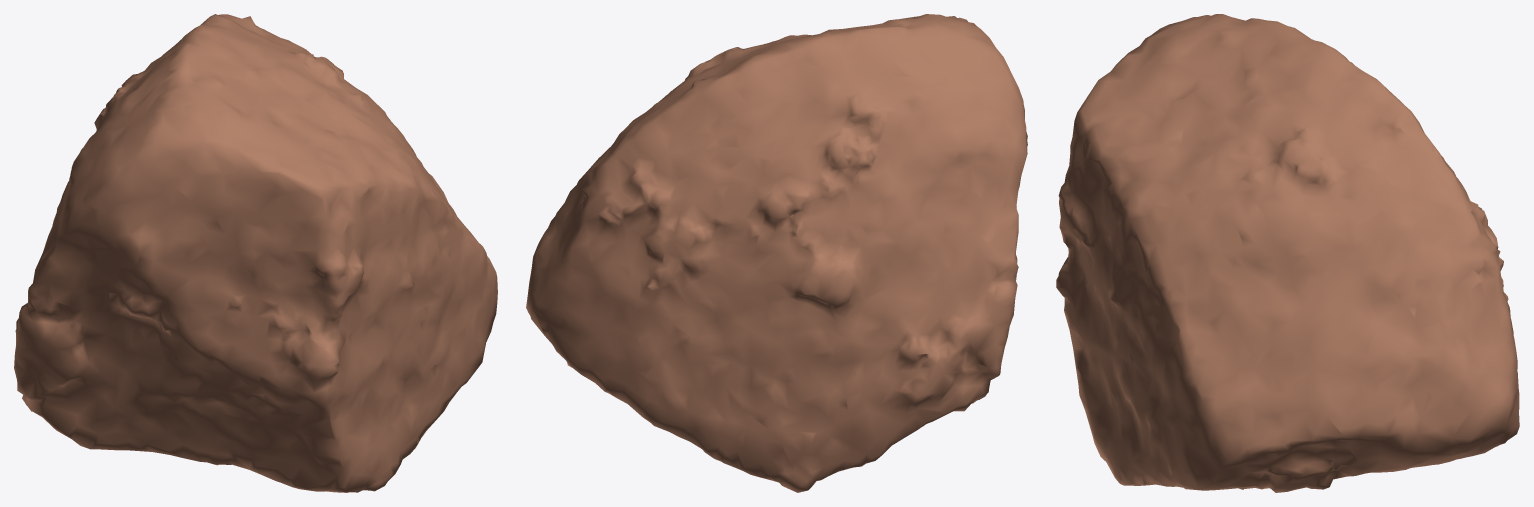
3 renders of one model, left to right at view 1: azimuth 30°, elevation 25°; view 2: azimuth 150°, elevation 25°; view 3: azimuth 270°, elevation 25°, orthographic. The views are drawn at different scales.
Parts seen in each view (by area): view 1: Cube_006_Cube_009; view 2: Cube_006_Cube_009; view 3: Cube_006_Cube_009.
Part boxes in pixels (x1,y1,x2,y2): Cube_006_Cube_009: [14, 14, 497, 492]; Cube_006_Cube_009: [526, 14, 1027, 492]; Cube_006_Cube_009: [1056, 14, 1519, 492].
Size of the model in its own units: 1.73 by 1.55 by 1.57.
